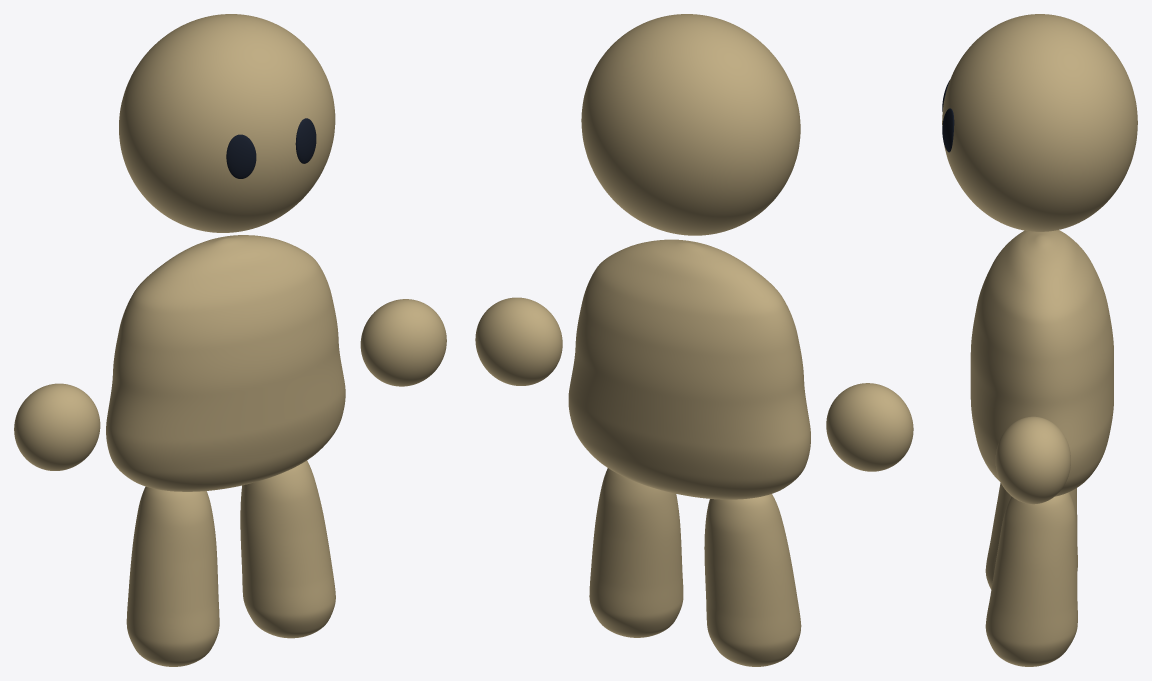
File: Feminine-skin1.glb
3 renders of one model, left to right at view 1: azimuth 30°, elevation 25°; view 2: azimuth 150°, elevation 25°; view 3: azimuth 270°, elevation 25°, orthographic. The views are drawn at different scales.
Parts seen in each view (by area): view 1: Rounded torso with skirt outline, Round head, Left leg blob, Right leg blob, Right round hand, Left round hand, Left optional eye, Right optional eye; view 2: Rounded torso with skirt outline, Round head, Left leg blob, Right leg blob, Left round hand, Right round hand; view 3: Round head, Rounded torso with skirt outline, Right leg blob, Right round hand, Left leg blob, Right optional eye.
Part boxes in pixels (x1=…): Rounded torso with skirt outline: x1=106, y1=235, x2=345, y2=491; Round head: x1=119, y1=14, x2=335, y2=232; Left leg blob: x1=126, y1=486, x2=219, y2=666; Right leg blob: x1=240, y1=460, x2=335, y2=638; Right round hand: x1=360, y1=299, x2=446, y2=386; Left round hand: x1=14, y1=383, x2=100, y2=470; Left optional eye: x1=226, y1=134, x2=256, y2=178; Right optional eye: x1=295, y1=118, x2=316, y2=163; Rounded torso with skirt outline: x1=568, y1=239, x2=810, y2=499; Round head: x1=581, y1=14, x2=800, y2=235; Left leg blob: x1=704, y1=494, x2=801, y2=666; Right leg blob: x1=589, y1=468, x2=683, y2=637; Left round hand: x1=826, y1=383, x2=913, y2=471; Right round hand: x1=475, y1=297, x2=562, y2=385; Round head: x1=942, y1=14, x2=1137, y2=231; Rounded torso with skirt outline: x1=970, y1=230, x2=1113, y2=496; Right leg blob: x1=985, y1=492, x2=1077, y2=666; Right round hand: x1=995, y1=416, x2=1070, y2=504; Left leg blob: x1=985, y1=482, x2=1077, y2=589; Right optional eye: x1=942, y1=108, x2=954, y2=152.
Size of the model in its own units: 1.94 by 2.72 by 0.792.
